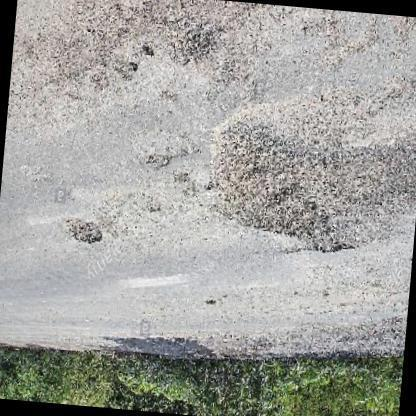pothole: (188, 111, 416, 255), (26, 0, 236, 74), (130, 130, 204, 170), (60, 215, 107, 244)
